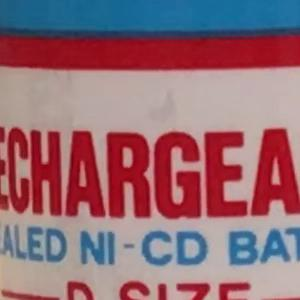keyword: (70, 221, 218, 275)
